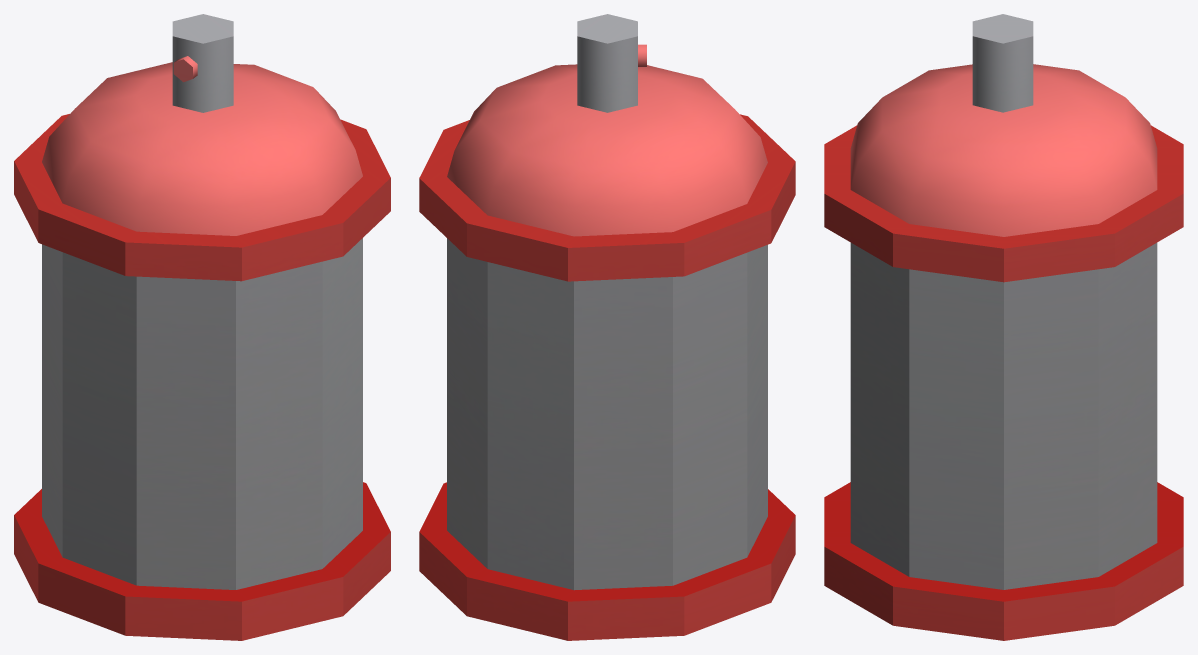
File: SM_Spray02.fbx
The picture shows the model from 3 angles, left to right: view 1: azimuth 30°, elevation 25°; view 2: azimuth 150°, elevation 25°; view 3: azimuth 270°, elevation 25°; orthographic projection.
Visible parts, largest first — view 1: SM_Spray02; view 2: SM_Spray02; view 3: SM_Spray02.
Boxes of the visible parts, x1,y1,x2,y2 form: SM_Spray02: (14,14,390,640); SM_Spray02: (419,14,795,640); SM_Spray02: (824,14,1183,640).
Bounding box in the file's own units: 13.94 × 21.68 × 13.26.
